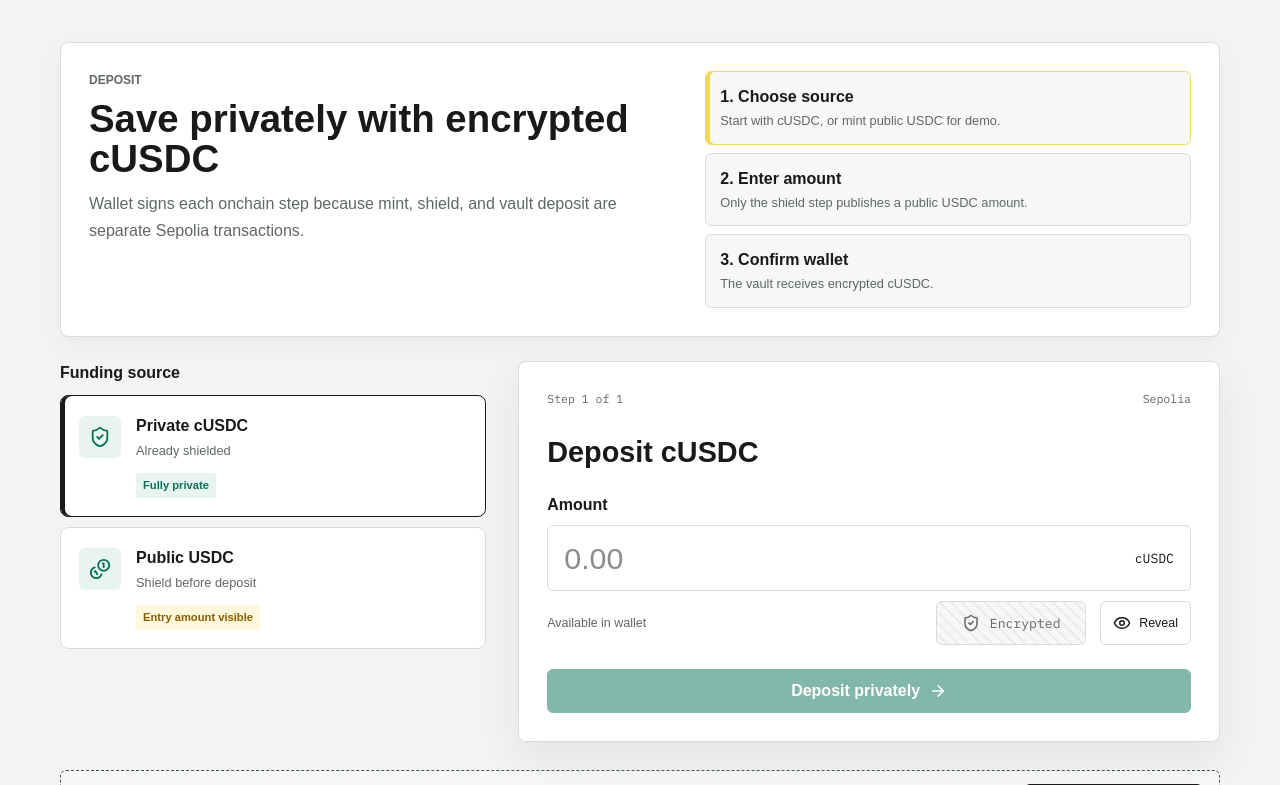
Test: DepositPage › shows an inline amount error without replacing the amount label
Type "0" into the number field labelled "Amount" at {"x": 833, "y": 558}, box [548,526,1119,590]
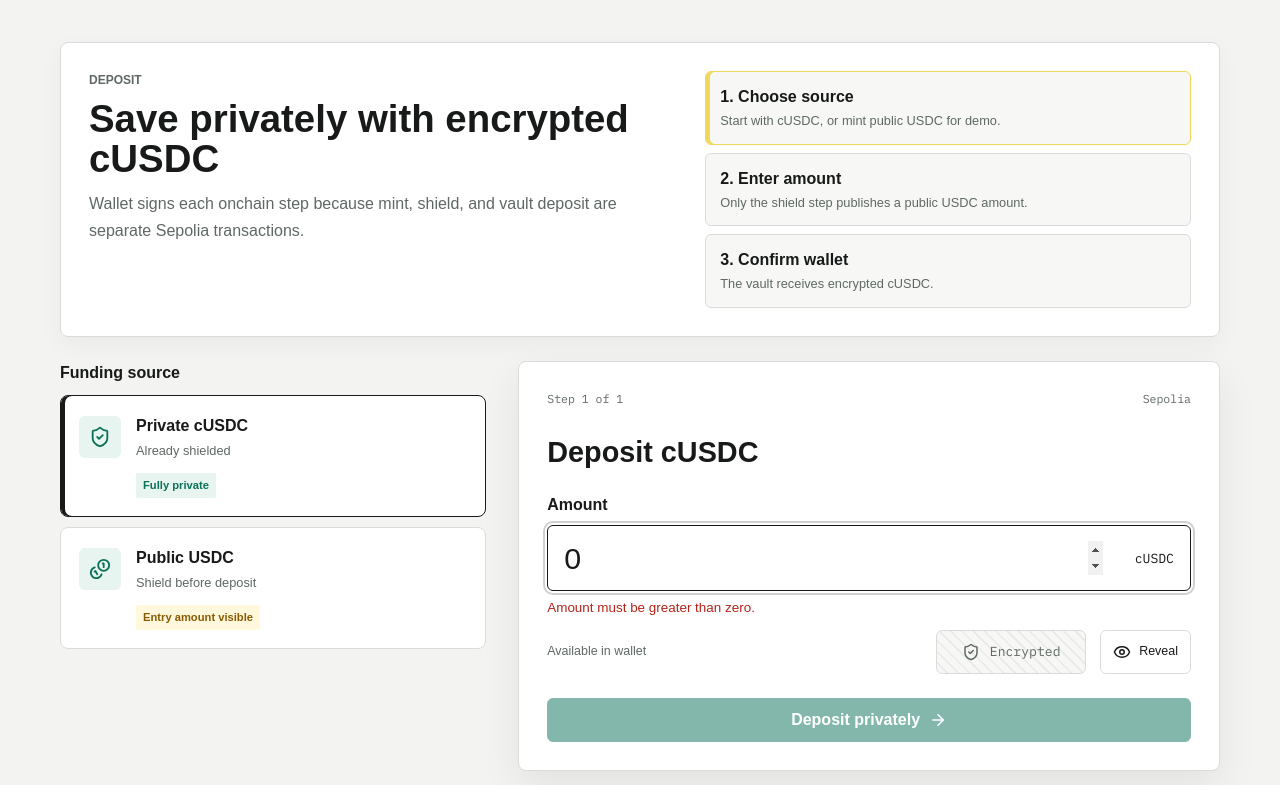
Result: the text "Amount must be greater than zero." is shown at [547,600,755,616]
